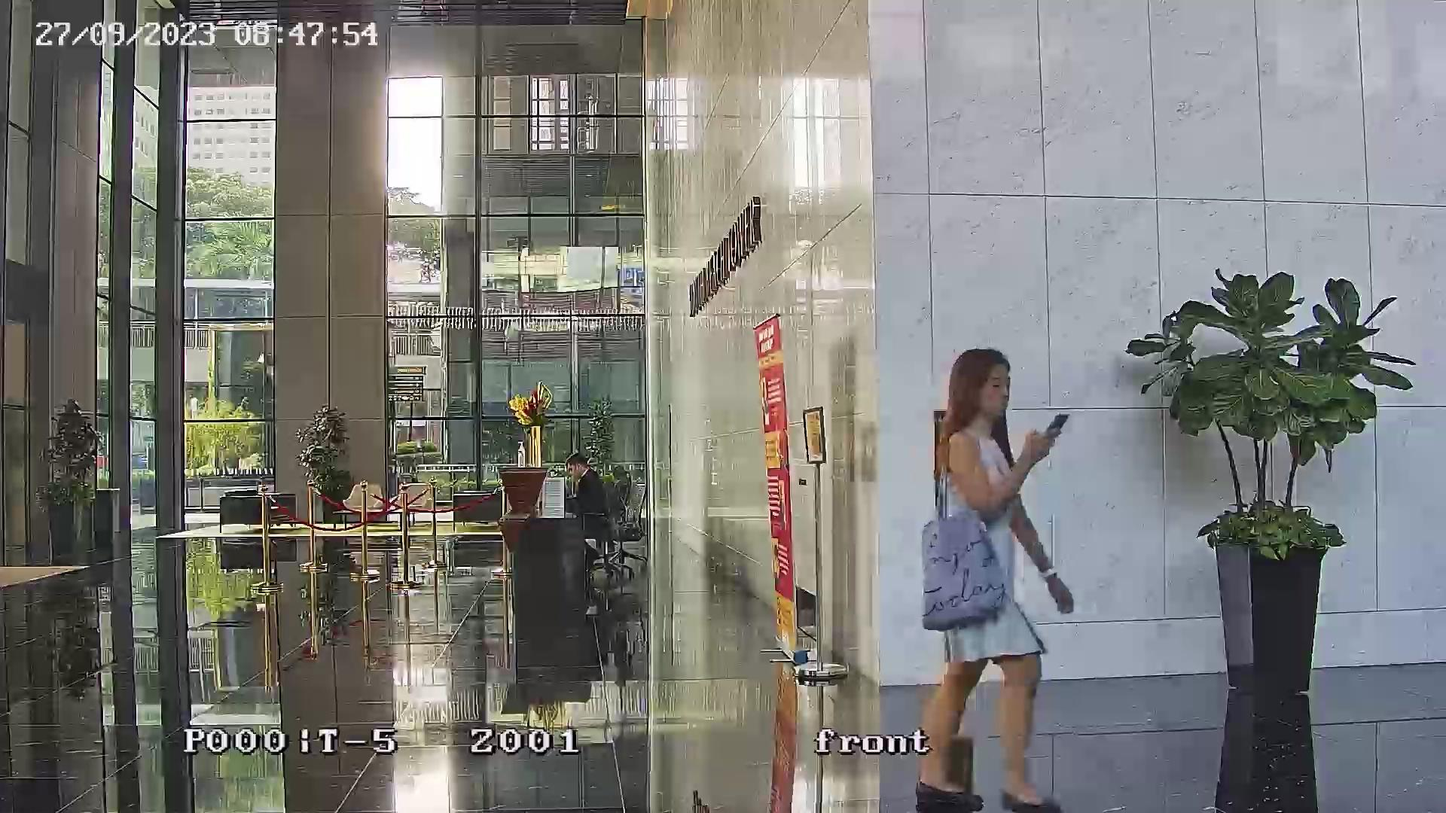person: (915, 346, 1074, 808), (562, 450, 615, 571)
